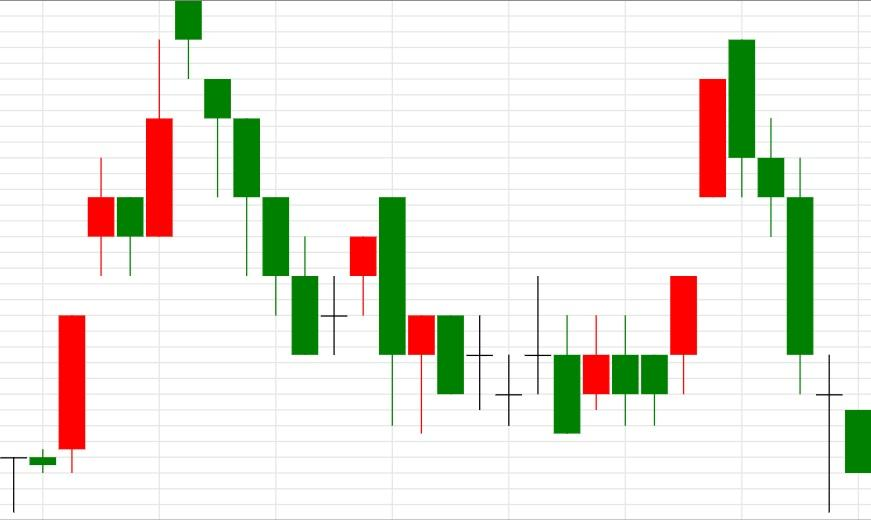bearish_engulfing_fall: (290, 196, 407, 425)
three_black_crows_fall: (0, 0, 261, 513), (553, 39, 815, 434)
